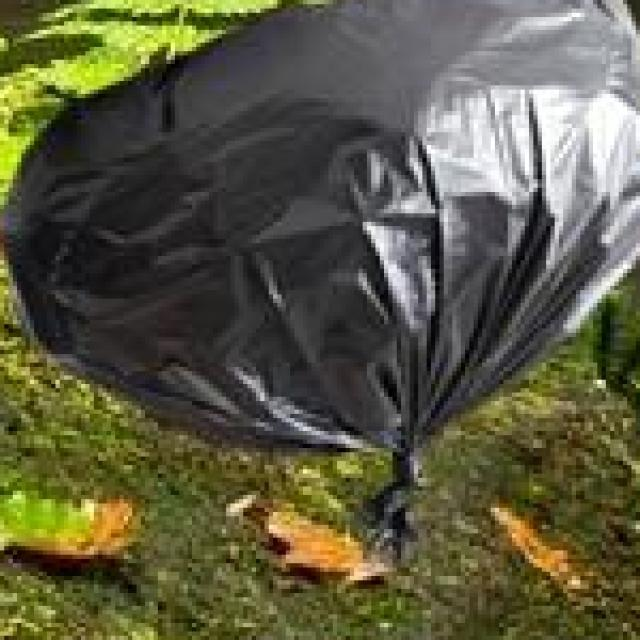Trashbag: (0, 3, 634, 580)
